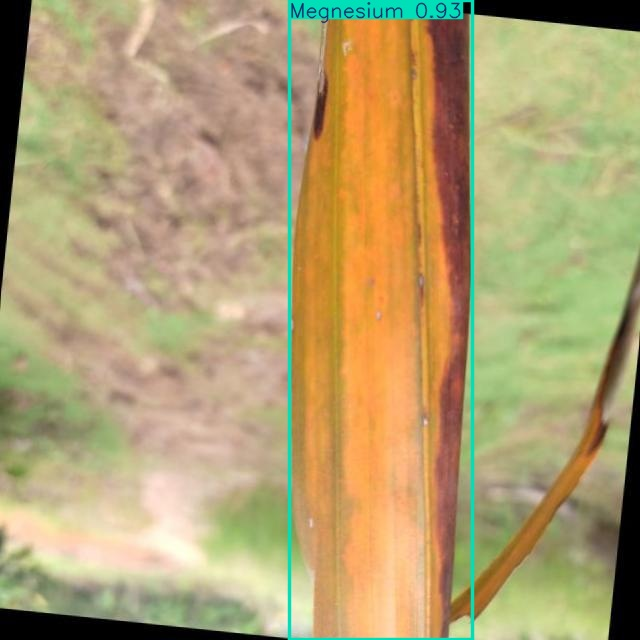Megnesium: (289, 0, 472, 640)
